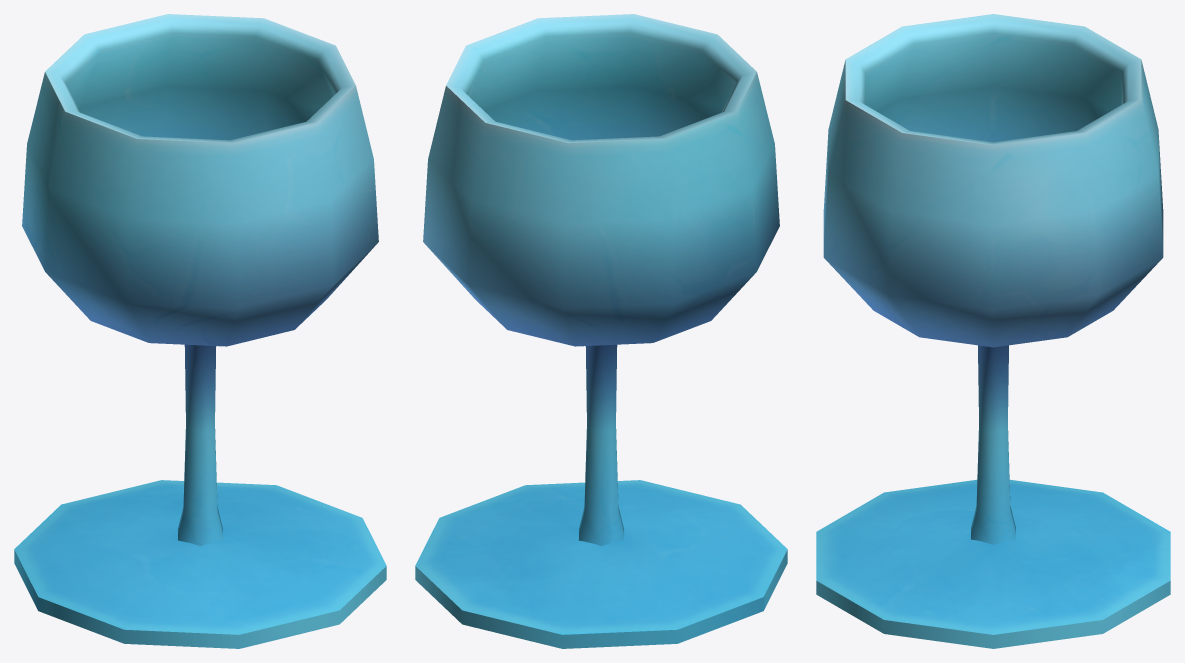
Rendered from SE_Wine_Glass_01.fbx.
3 renders of one model, left to right at view 1: azimuth 30°, elevation 25°; view 2: azimuth 150°, elevation 25°; view 3: azimuth 270°, elevation 25°, orthographic.
Parts seen in each view (by area): view 1: SE_Wine_Glass_01; view 2: SE_Wine_Glass_01; view 3: SE_Wine_Glass_01.
Boxes of the visible parts, <box> form: SE_Wine_Glass_01: <box>14,14,386,648</box>; SE_Wine_Glass_01: <box>415,14,787,648</box>; SE_Wine_Glass_01: <box>816,14,1170,648</box>.
Size of the model in its own units: 0.859 by 1.25 by 0.817.
